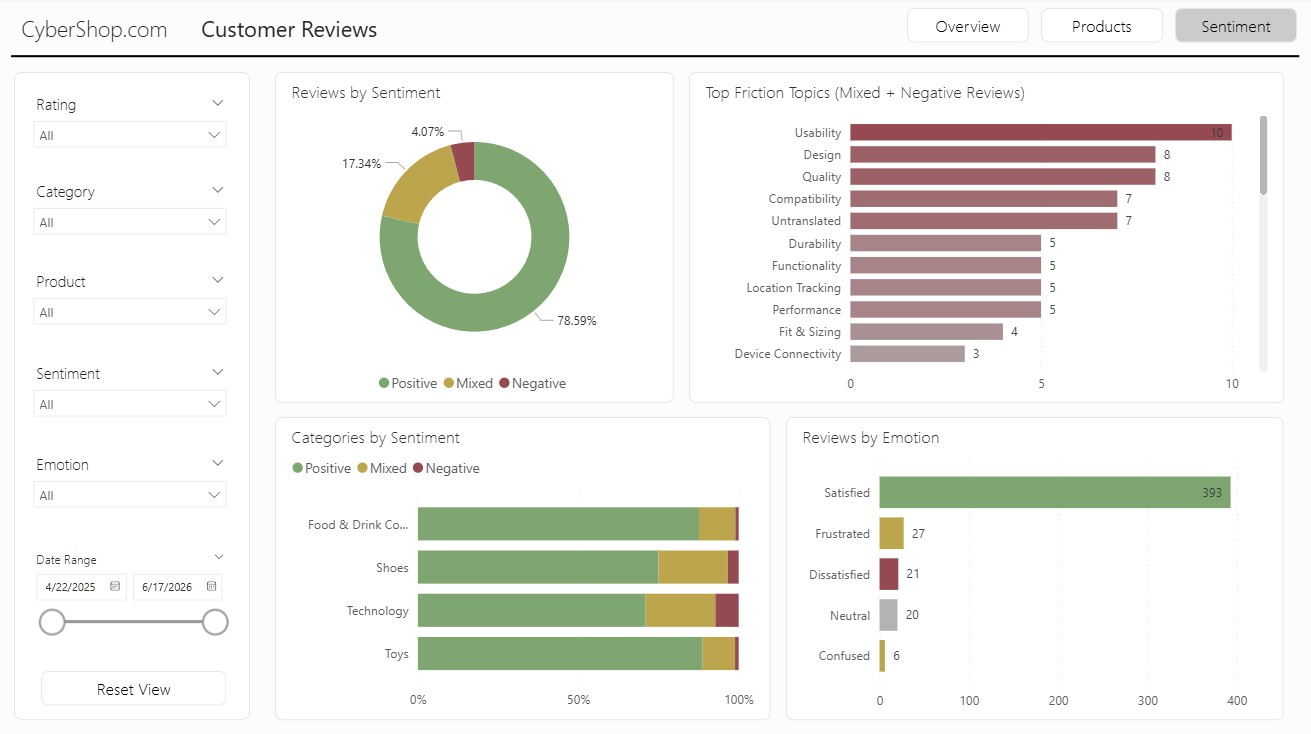

This screenshot's page, from the dashboard's own definition file:
{"tool":"powerbi","page":{"name":"Sentiment","canvas":[1280,720],"ordinal":2},"visuals":[{"type":"shape","box":[13.6,46.2,1253.2,21.8],"z":0},{"type":"textbox","box":[18.5,10.7,485.3,46.7],"z":1000},{"type":"shape","box":[16.5,72.9,229.5,630.3],"z":2000},{"type":"shape","title":"ttt","box":[1145.3,10.9,118.8,33.6],"z":3000},{"type":"shape","title":"ttt","box":[1015.6,10.9,118.8,33.6],"z":4000},{"type":"shape","title":"ttt","box":[885,10.9,118.8,33.6],"z":5000},{"type":"shape","title":"ttt","box":[42.9,655.1,180.5,33.6],"z":6000},{"type":"donutChart","title":"Reviews by Sentiment","fields":{"Category":["reviews_analyzed.sentiment_category"],"Y":["CountNonNull(reviews_analyzed.id)"]},"box":[270.4,72.9,388.1,321.9],"z":7000},{"type":"clusteredBarChart","title":"Reviews by Emotion","fields":{"Y":["CountNonNull(reviews_analyzed.id)"],"Category":["reviews_analyzed.emotion"]},"box":[767.4,408.5,484.4,294.7],"z":8000},{"type":"clusteredBarChart","title":"Top Friction Topics (Mixed + Negative Reviews)","fields":{"Y":["CountNonNull(reviews_analyzed.id)"],"Category":["reviews_analyzed.MainTopicBetter"]},"box":[673.1,72.9,578.7,321.9],"z":9000},{"type":"hundredPercentStackedBarChart","title":"Categories by Sentiment","fields":{"Category":["reviews_analyzed.category"],"Y":["CountNonNull(reviews_analyzed.id)"],"Series":["reviews_analyzed.sentiment_category"]},"box":[270.4,408.5,482,294.7],"z":10000},{"type":"slicer","fields":{"Values":["reviews_analyzed.rating"]},"box":[25.3,88.5,208.1,74.9],"z":11000},{"type":"slicer","fields":{"Values":["reviews_analyzed.category"]},"box":[25.3,173.1,208.1,74.9],"z":12000},{"type":"slicer","fields":{"Values":["reviews_analyzed.product"]},"box":[25.3,260.7,208.1,74.9],"z":13000},{"type":"slicer","fields":{"Values":["reviews_analyzed.sentiment_category"]},"box":[25.3,350.2,208.1,74.9],"z":14000},{"type":"slicer","fields":{"Values":["reviews_analyzed.emotion"]},"box":[25.3,438.7,208.1,74.9],"z":15000},{"type":"slicer","fields":{"Values":["reviews_analyzed.date"]},"box":[25.3,533,208.1,108.9],"z":16000}]}

Visuals, with their boxes in screenshot pixels (x1, y1, x2, y2), scaled from the page's 1280x720 canvas onto the 1311x734 screenshot:
shape: bbox=(14, 47, 1297, 69)
textbox: bbox=(19, 11, 516, 59)
shape: bbox=(17, 74, 252, 717)
"ttt" shape: bbox=(1173, 11, 1295, 45)
"ttt" shape: bbox=(1040, 11, 1162, 45)
"ttt" shape: bbox=(906, 11, 1028, 45)
"ttt" shape: bbox=(44, 668, 229, 702)
"Reviews by Sentiment" donutChart: bbox=(277, 74, 674, 402)
"Reviews by Emotion" clusteredBarChart: bbox=(786, 416, 1282, 717)
"Top Friction Topics (Mixed + Negative Reviews)" clusteredBarChart: bbox=(689, 74, 1282, 402)
"Categories by Sentiment" hundredPercentStackedBarChart: bbox=(277, 416, 771, 717)
slicer - reviews_analyzed.rating: bbox=(26, 90, 239, 167)
slicer - reviews_analyzed.category: bbox=(26, 176, 239, 253)
slicer - reviews_analyzed.product: bbox=(26, 266, 239, 342)
slicer - reviews_analyzed.sentiment_category: bbox=(26, 357, 239, 433)
slicer - reviews_analyzed.emotion: bbox=(26, 447, 239, 524)
slicer - reviews_analyzed.date: bbox=(26, 543, 239, 654)
